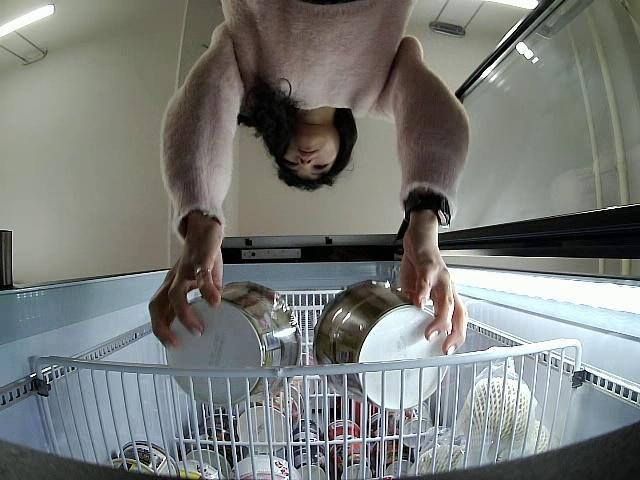03_chapagetti_L: (314, 278, 452, 410), (170, 282, 300, 408)
